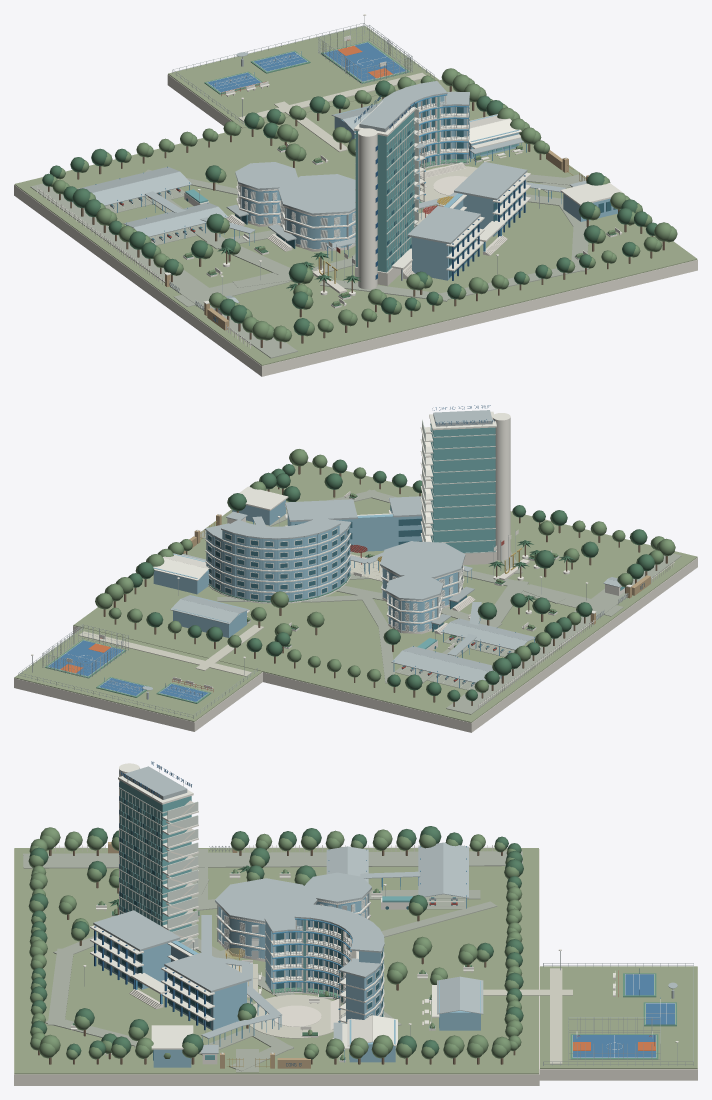
The model's file is uit-campus.glb.
3 views of the same model, one above another, from view 1: azimuth 30°, elevation 25°; view 2: azimuth 150°, elevation 25°; view 3: azimuth 270°, elevation 25° (orthographic). The views are drawn at different scales.
Parts seen in each view (by area): view 1: Landscape, Trees_and_paths, Sports_annex_ground, E_glass_tower, A_teaching_block, C_long_teaching_wing, Parking_shelters, B_curved_courtyard, Sports_courts, Canteen_and_student_dining, Covered_walkways_and_event_square, Gate_A_and_UIT_landmark (+3 smaller); view 2: Landscape, Trees_and_paths, E_glass_tower, Sports_annex_ground, B_curved_courtyard, A_teaching_block, Parking_shelters, C_long_teaching_wing, Sports_courts, Canteen_and_student_dining, Gate_A_and_UIT_landmark, Covered_walkways_and_event_square (+2 smaller); view 3: Landscape, Trees_and_paths, Sports_annex_ground, E_glass_tower, B_curved_courtyard, C_long_teaching_wing, A_teaching_block, Sports_courts, Canteen_and_student_dining, Parking_shelters, Covered_walkways_and_event_square, Student_services (+3 smaller).
Boxes of the visible parts, <box> form: Landscape: <box>14,79,697,376</box>; Trees_and_paths: <box>42,68,677,348</box>; Sports_annex_ground: <box>167,14,438,151</box>; E_glass_tower: <box>354,95,419,289</box>; A_teaching_block: <box>226,162,355,251</box>; C_long_teaching_wing: <box>407,162,530,280</box>; Parking_shelters: <box>72,166,228,245</box>; B_curved_courtyard: <box>376,81,469,203</box>; Sports_courts: <box>204,25,412,96</box>; Canteen_and_student_dining: <box>331,103,526,165</box>; Covered_walkways_and_event_square: <box>145,162,565,260</box>; Gate_A_and_UIT_landmark: <box>37,187,355,348</box>; Landscape: <box>73,461,697,732</box>; Trees_and_paths: <box>95,449,675,706</box>; E_glass_tower: <box>420,405,510,564</box>; Sports_annex_ground: <box>14,625,264,731</box>; B_curved_courtyard: <box>205,516,351,603</box>; A_teaching_block: <box>380,541,475,634</box>; Parking_shelters: <box>391,618,535,690</box>; C_long_teaching_wing: <box>285,496,421,552</box>; Sports_courts: <box>42,624,213,703</box>; Canteen_and_student_dining: <box>153,553,250,637</box>; Gate_A_and_UIT_landmark: <box>478,530,674,709</box>; Covered_walkways_and_event_square: <box>252,516,483,657</box>; Landscape: <box>14,848,539,1085</box>; Trees_and_paths: <box>28,826,523,1064</box>; Sports_annex_ground: <box>483,949,697,1080</box>; E_glass_tower: <box>118,761,198,949</box>; B_curved_courtyard: <box>264,903,384,1023</box>; C_long_teaching_wing: <box>90,910,251,1030</box>; A_teaching_block: <box>215,872,371,961</box>; Sports_courts: <box>568,968,677,1060</box>; Canteen_and_student_dining: <box>332,976,483,1062</box>; Parking_shelters: <box>326,842,468,909</box>; Covered_walkways_and_event_square: <box>201,871,420,1046</box>; Student_services: <box>151,1025,193,1067</box>.
Size of the model in its own units: 128 by 47.87 by 164.
